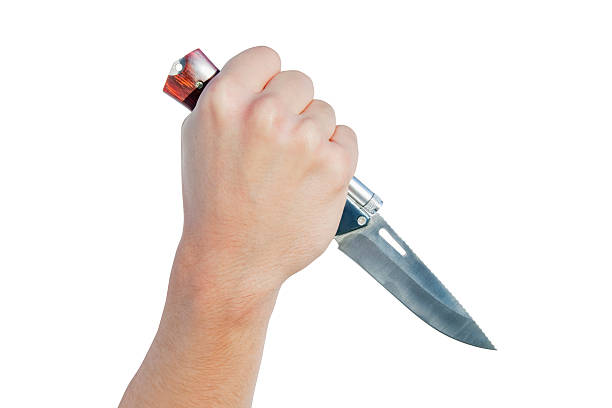knife: (162, 45, 501, 352)
